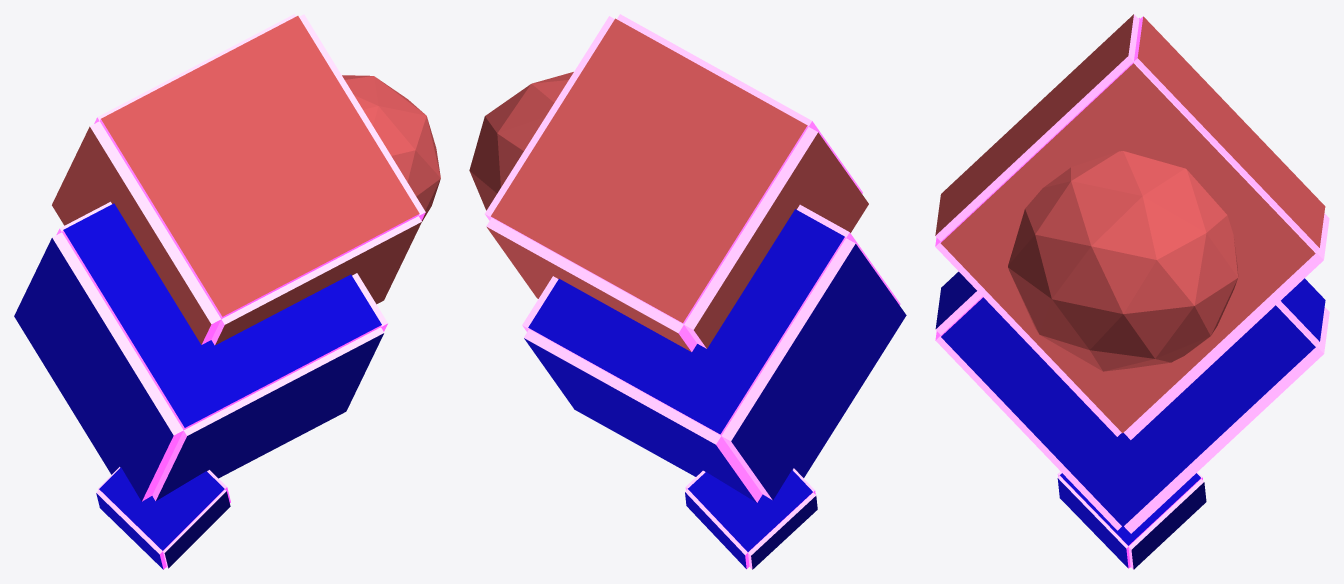
The model's file is finalbosshit.glb.
3 views of the same model, side by side, from view 1: azimuth 30°, elevation 25°; view 2: azimuth 150°, elevation 25°; view 3: azimuth 270°, elevation 25° (orthographic). The views are drawn at different scales.
Visible parts, largest first — view 1: Cube, Cube.002, Cube.001, Icosphere.002; view 2: Cube, Cube.002, Cube.001, Icosphere.002; view 3: Cube, Icosphere.002, Cube.002, Cube.001.
Boxes of the visible parts, x1=… form: Cube: x1=52, y1=14, x2=425, y2=345; Cube.002: x1=14, y1=201, x2=387, y2=501; Cube.001: x1=96, y1=467, x2=230, y2=569; Icosphere.002: x1=342, y1=75, x2=440, y2=221; Cube: x1=484, y1=14, x2=868, y2=351; Cube.002: x1=522, y1=204, x2=906, y2=502; Cube.001: x1=685, y1=468, x2=817, y2=569; Icosphere.002: x1=469, y1=72, x2=573, y2=210; Cube: x1=935, y1=14, x2=1329, y2=439; Icosphere.002: x1=1008, y1=151, x2=1238, y2=371; Cube.002: x1=935, y1=271, x2=1329, y2=533; Cube.001: x1=1057, y1=471, x2=1206, y2=569.
Size of the model in its own units: 2.35 by 3.11 by 1.9.
